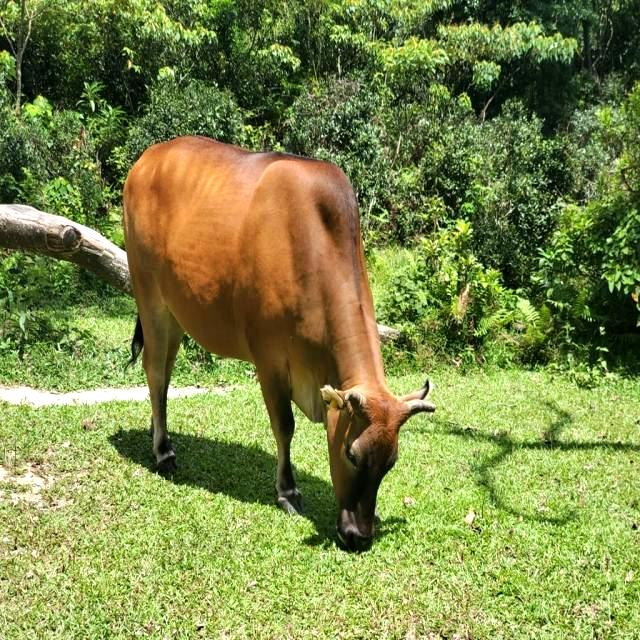COW: (124, 136, 435, 549)
